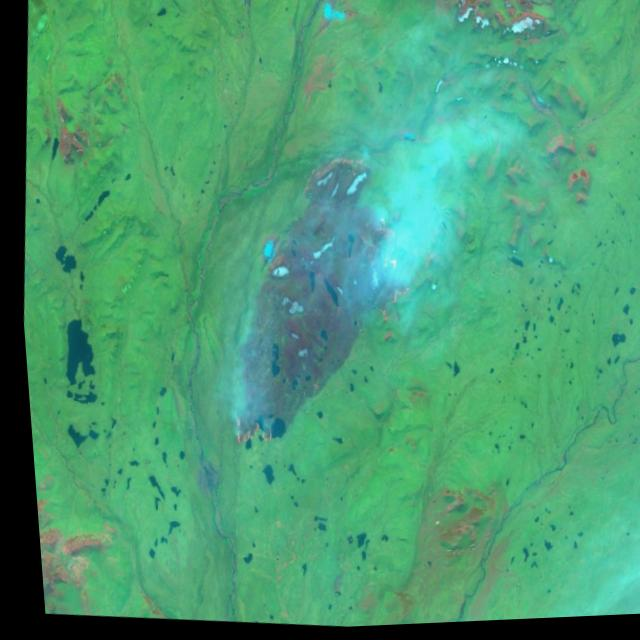fire: (353, 214, 413, 325), (210, 396, 272, 458)
